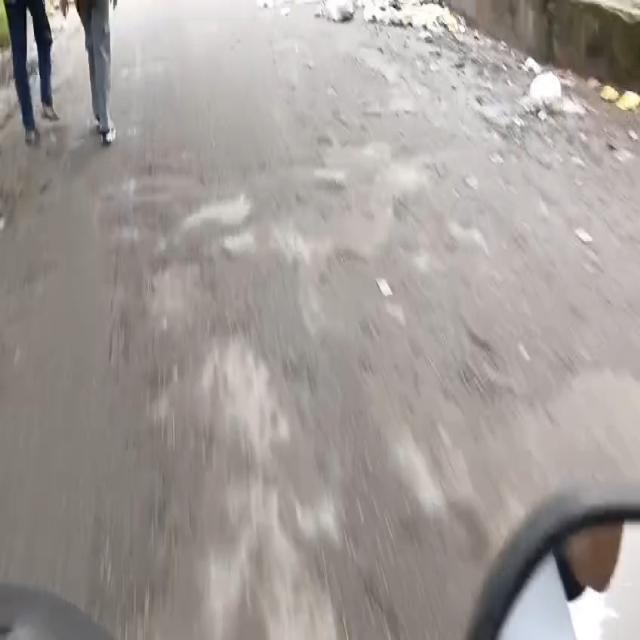road-pothole: (134, 139, 428, 410)
